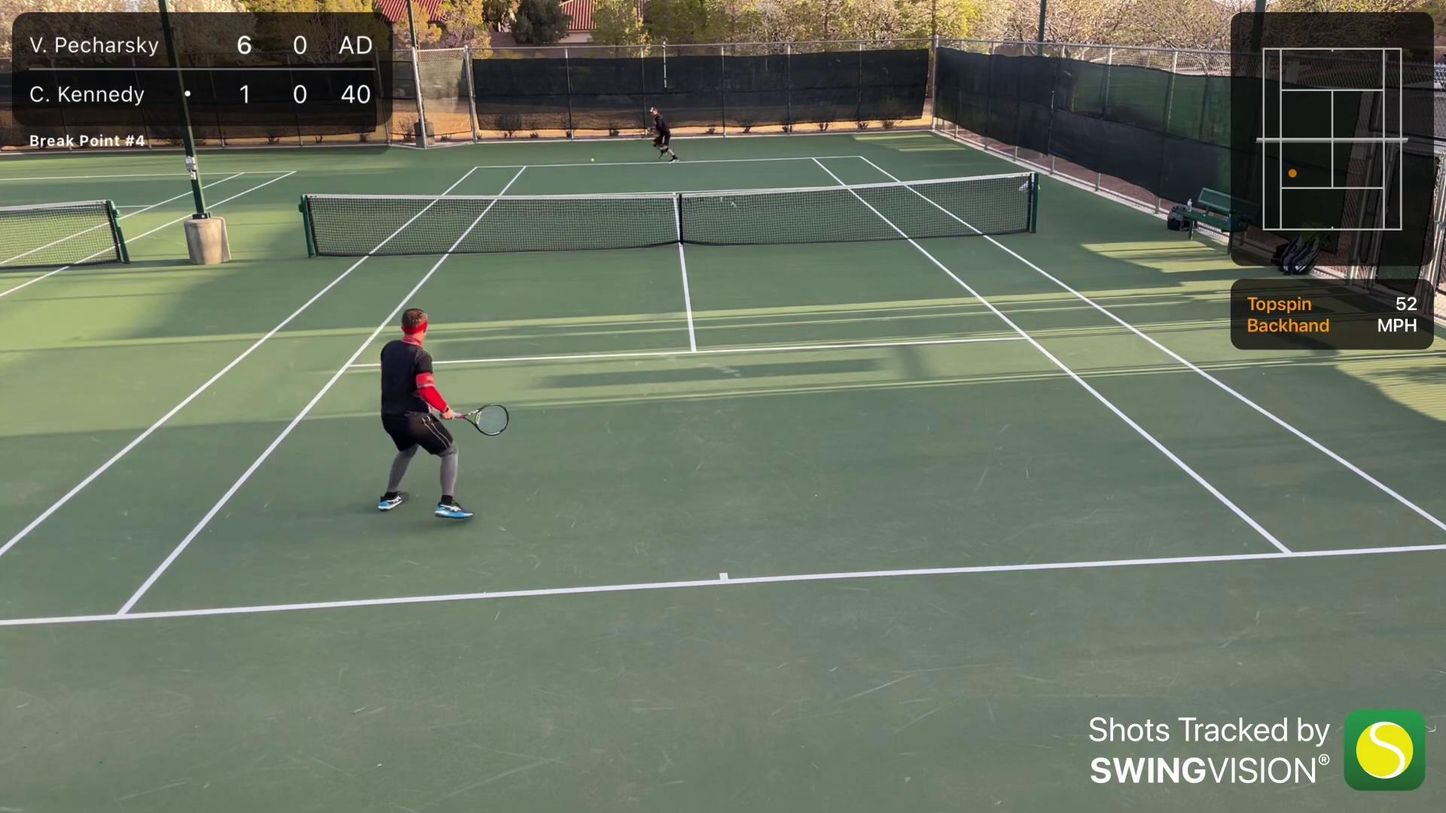ball: (589, 157, 596, 164)
